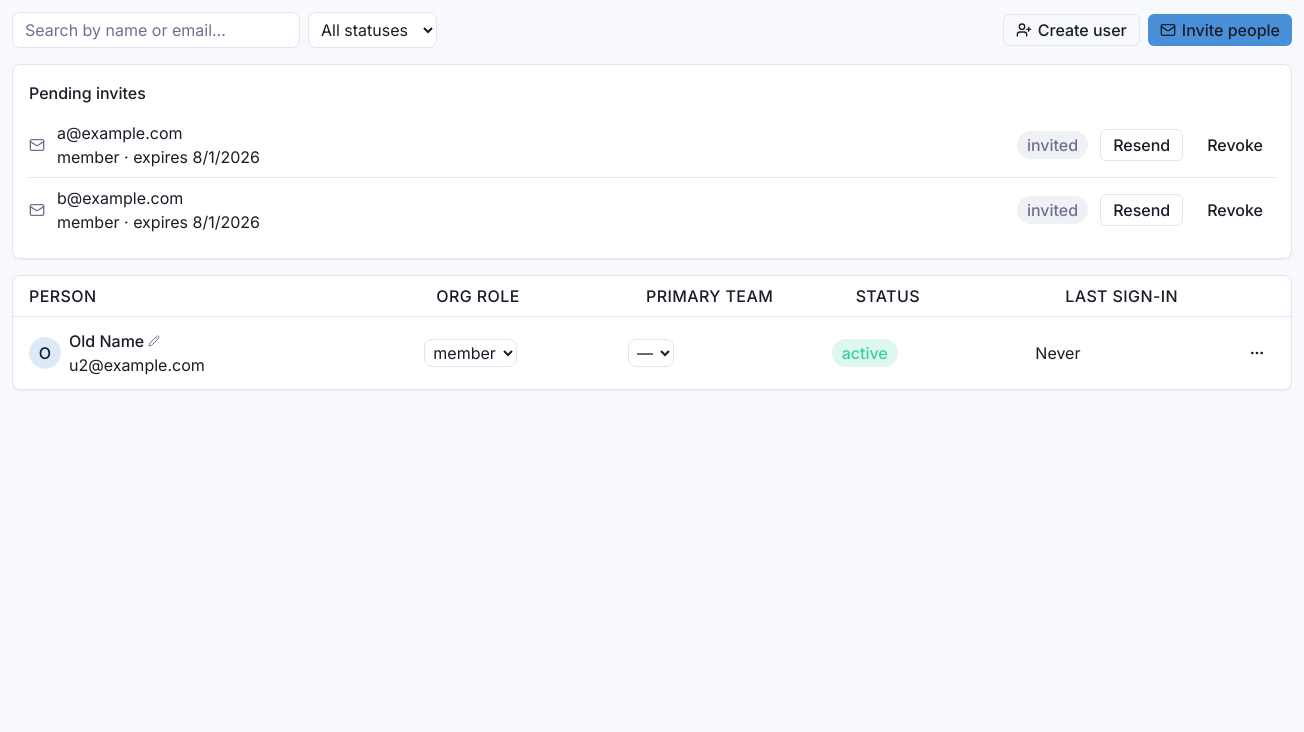
Test case: PeoplePage pending invites — resend re-surfaces the link inline › shows the fresh link under the resent row, not the other row
This screenshot has width=1304, height=732.
Click the button with test id "invite-resend-b@example.com": (1142, 210) [1100,194,1183,226]
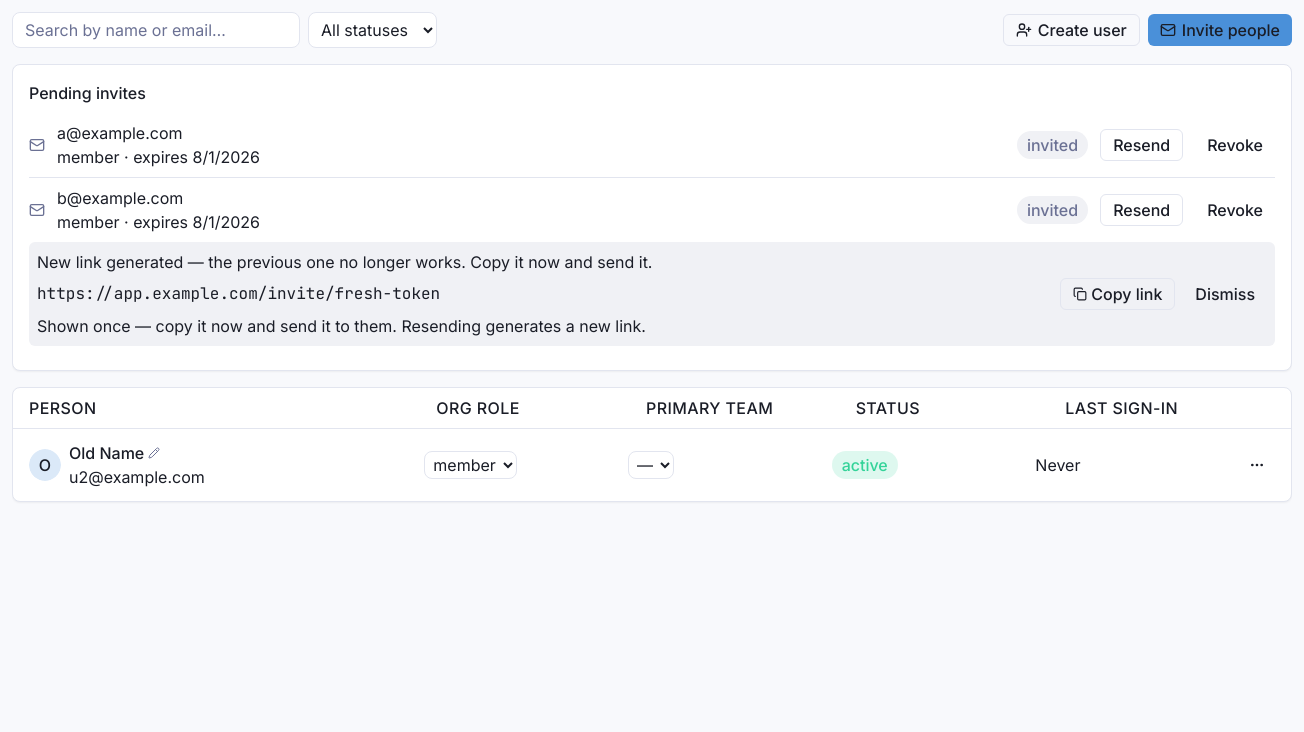
Expected: the text with test id "invite-link-b@example.com" reads "https://app.example.com/invite/fresh-token", [37,283,440,304]
